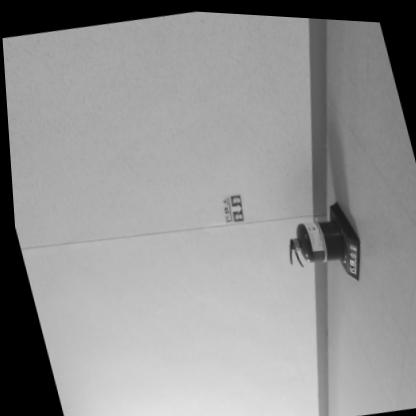FE: (270, 192, 366, 285)
